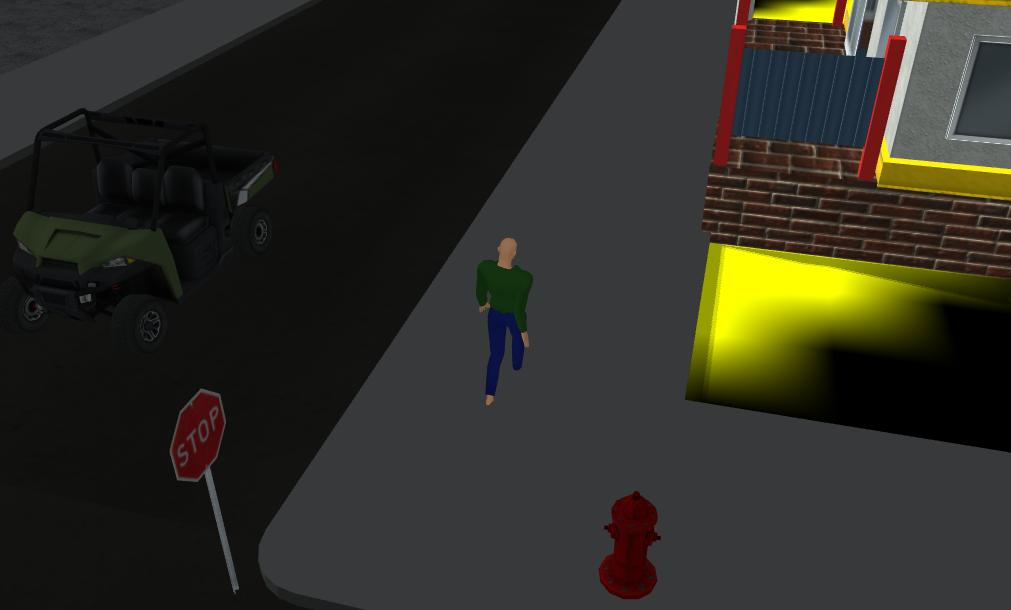car: (11, 97, 289, 351)
fire hydrant: (572, 473, 683, 593)
human: (454, 234, 578, 419)
street sign: (149, 384, 275, 589)
